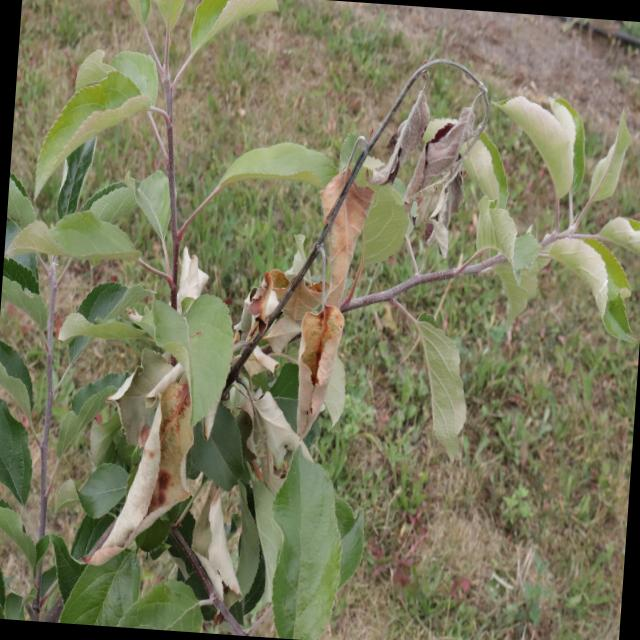-FireBlight-: (237, 164, 366, 443)
